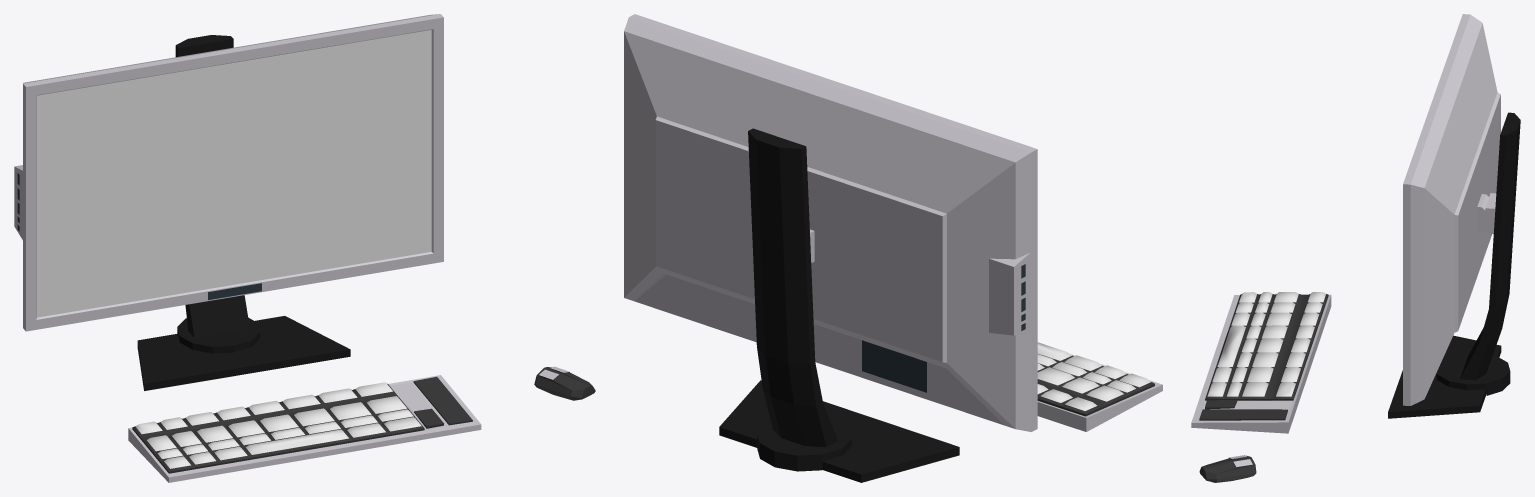
File: PersonalComputer.fbx
3 renders of one model, left to right at view 1: azimuth 30°, elevation 25°; view 2: azimuth 150°, elevation 25°; view 3: azimuth 270°, elevation 25°, orthographic. The views are drawn at different scales.
Parts seen in each view (by area): view 1: Monitor_01.004, Keyboard.002, Cube.073; view 2: Monitor_01.004, Keyboard.002; view 3: Monitor_01.004, Keyboard.002, Cube.073.
Boxes of the visible parts, left/top/right/bottom form: Monitor_01.004: left=14, top=14, right=443, bottom=390; Keyboard.002: left=128, top=375, right=481, bottom=482; Cube.073: left=534, top=366, right=595, bottom=400; Monitor_01.004: left=624, top=14, right=1037, bottom=482; Keyboard.002: left=1037, top=342, right=1162, bottom=431; Monitor_01.004: left=1388, top=14, right=1520, bottom=418; Keyboard.002: left=1191, top=292, right=1331, bottom=433; Cube.073: left=1199, top=455, right=1256, bottom=482.
Size of the model in its own units: 61.63 by 42.48 by 45.17.
